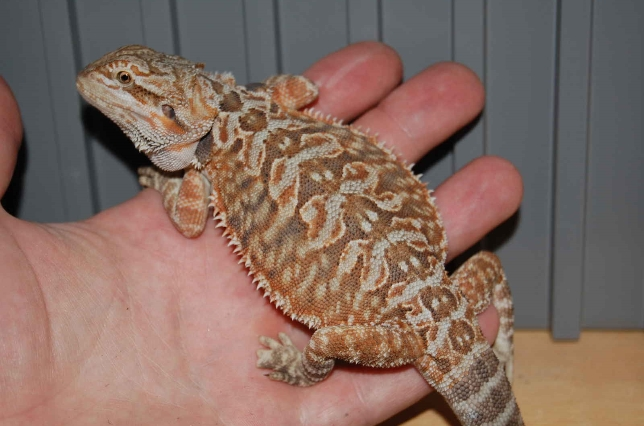bearded: (70, 41, 523, 426)
